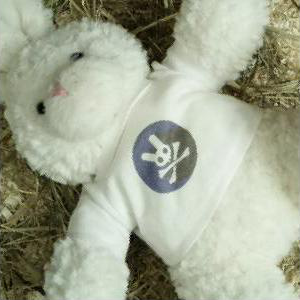bunny: (131, 119, 200, 197)
